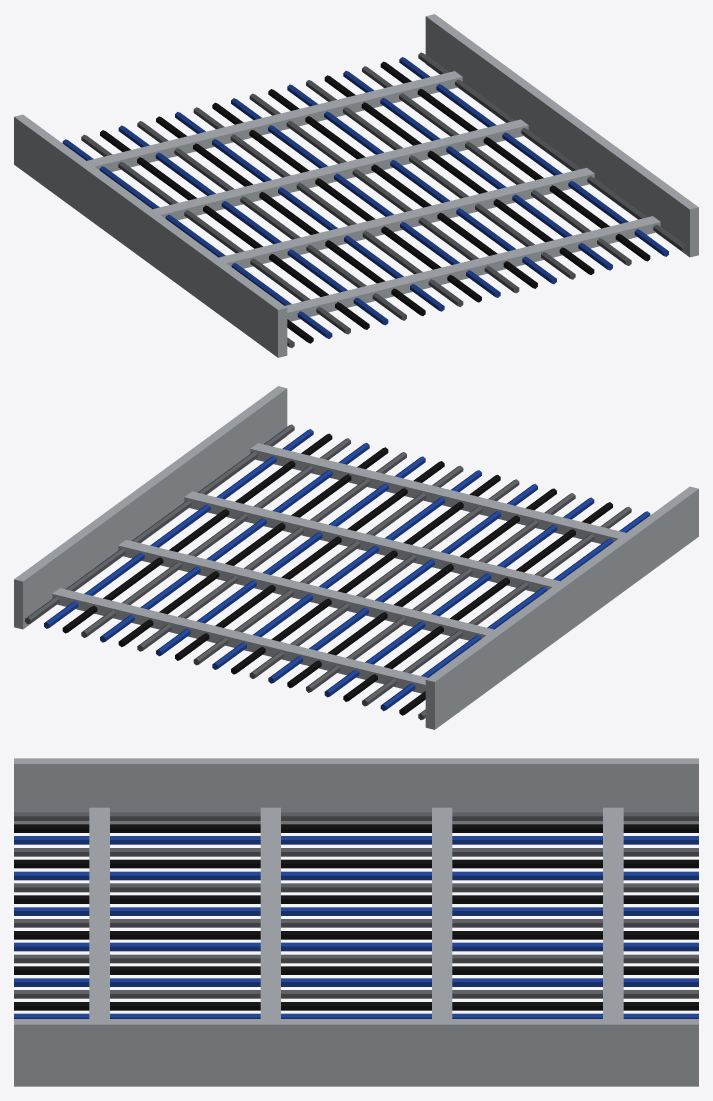
The model's file is services.tray.ladder_900.glb.
3 renders of one model, top to bottom at view 1: azimuth 30°, elevation 25°; view 2: azimuth 150°, elevation 25°; view 3: azimuth 270°, elevation 25°, orthographic. The views are drawn at different scales.
Parts seen in each view (by area): view 1: main__steel_galvanised, main__plastic_grey, main__plastic_blue, main__plastic_black; view 2: main__steel_galvanised, main__plastic_grey, main__plastic_blue, main__plastic_black; view 3: main__steel_galvanised, main__plastic_grey, main__plastic_black, main__plastic_blue.
Part boxes in pixels (box(x1,y1,x2,y2)): main__steel_galvanised: box(14, 14, 698, 357); main__plastic_grey: box(81, 52, 687, 347); main__plastic_blue: box(62, 57, 668, 338); main__plastic_black: box(100, 61, 650, 343); main__steel_galvanised: box(14, 386, 698, 729); main__plastic_grey: box(25, 424, 631, 719); main__plastic_blue: box(44, 429, 650, 710); main__plastic_black: box(62, 433, 612, 715); main__steel_galvanised: box(14, 758, 698, 1086); main__plastic_grey: box(14, 812, 698, 998); main__plastic_black: box(14, 824, 698, 1010); main__plastic_blue: box(14, 836, 698, 1018).
Size of the model in its own units: 0.92 by 0.1 by 1.
